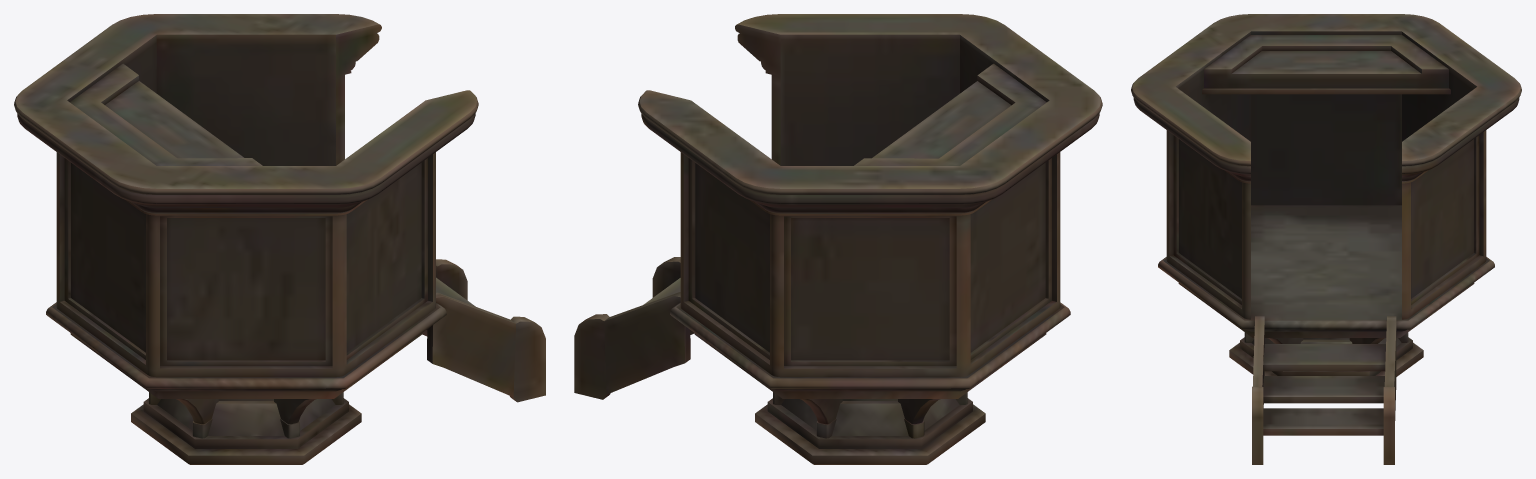
File: SM_SurveillanceTable_59fd84.glb
3 renders of one model, left to right at view 1: azimuth 30°, elevation 25°; view 2: azimuth 150°, elevation 25°; view 3: azimuth 270°, elevation 25°, orthographic. The views are drawn at different scales.
Bounding box in the file's own units: 2.19 × 1.56 × 2.02.
Materials: 1 (1 with a texture image).
